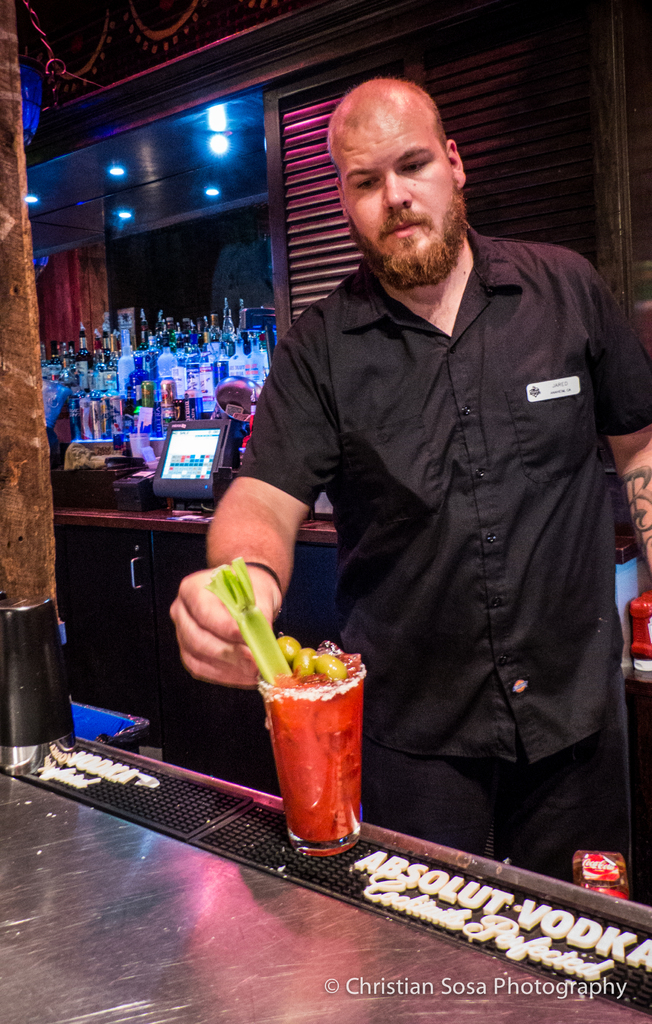Person: (168, 71, 651, 902)
